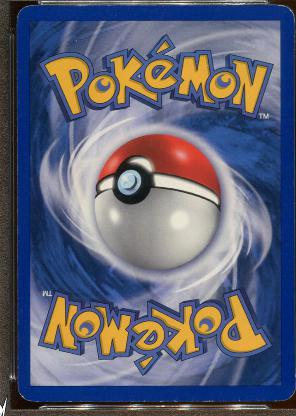Card: (13, 2, 293, 406)
Corner Wear: (271, 382, 294, 402), (16, 384, 39, 402), (275, 3, 293, 26), (14, 4, 30, 28)
Edge Wear: (61, 398, 259, 402)
